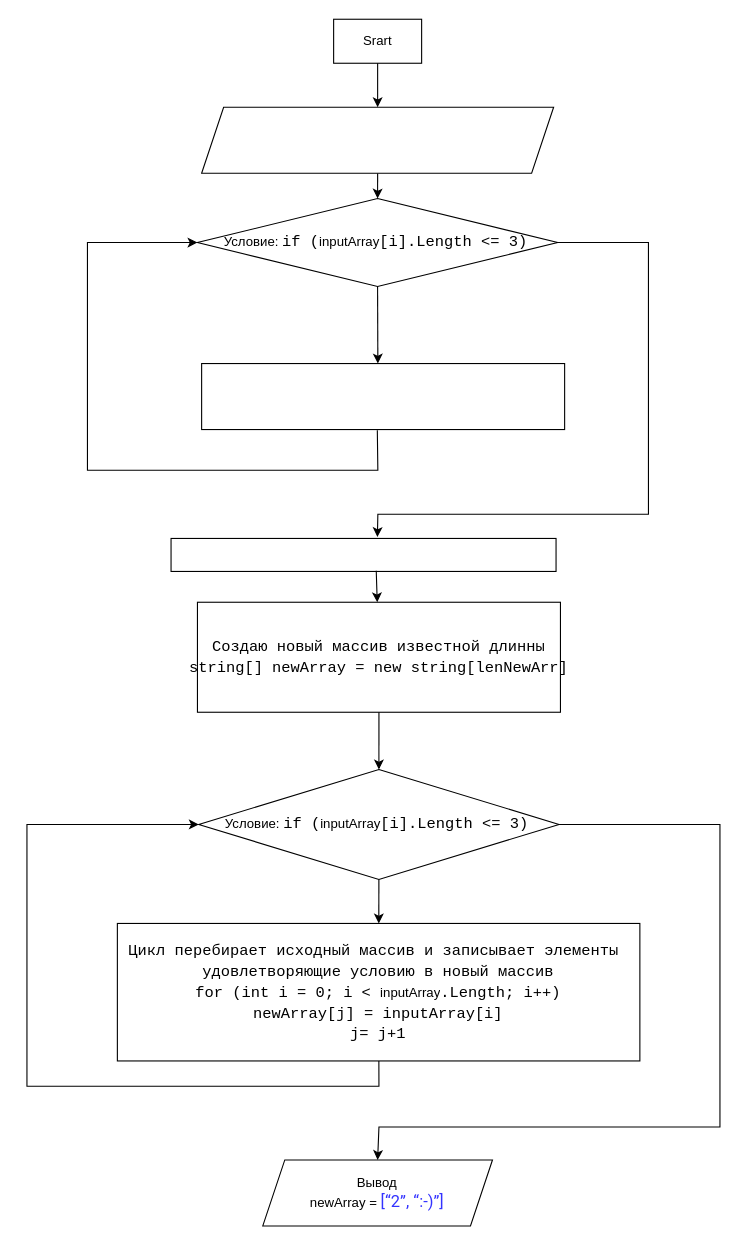
Image size: 748x1245. Some labels were removed from this diagram. Here are the shapes that lost their labels. From the top down, the centre of each, then its label:
point 377,139: Ввод inputArray = [“Hello”, “2”, “world”, “:-)”]
point 383,396: for (int i = 0; i < inputArray .Length; i++) lenNewArr++
point 363,554: Получаю длинну нового массива lenNewArr
